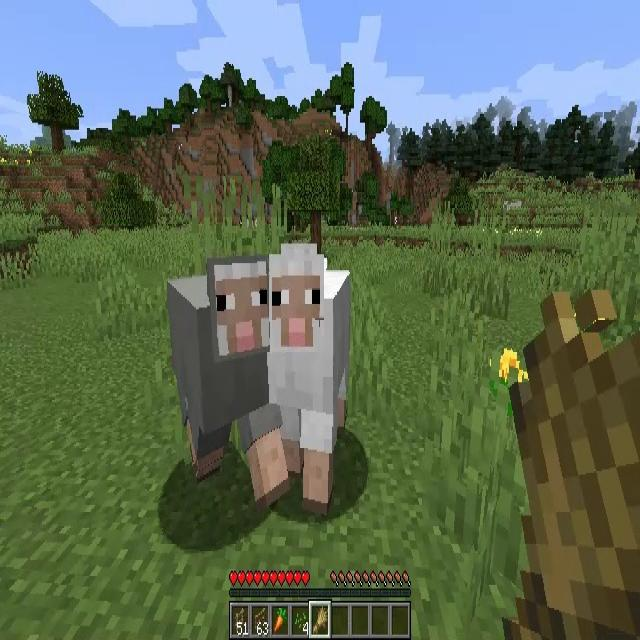flower: (488, 346, 528, 406)
sheep: (168, 263, 271, 493), (274, 247, 349, 507)
